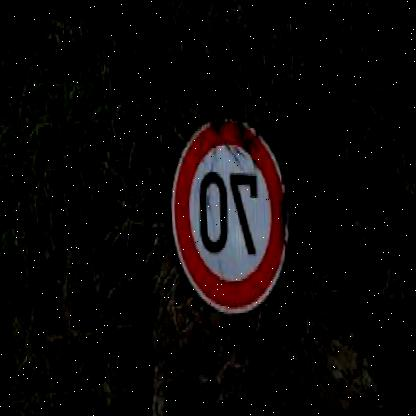speedlimit: (168, 110, 294, 312)
